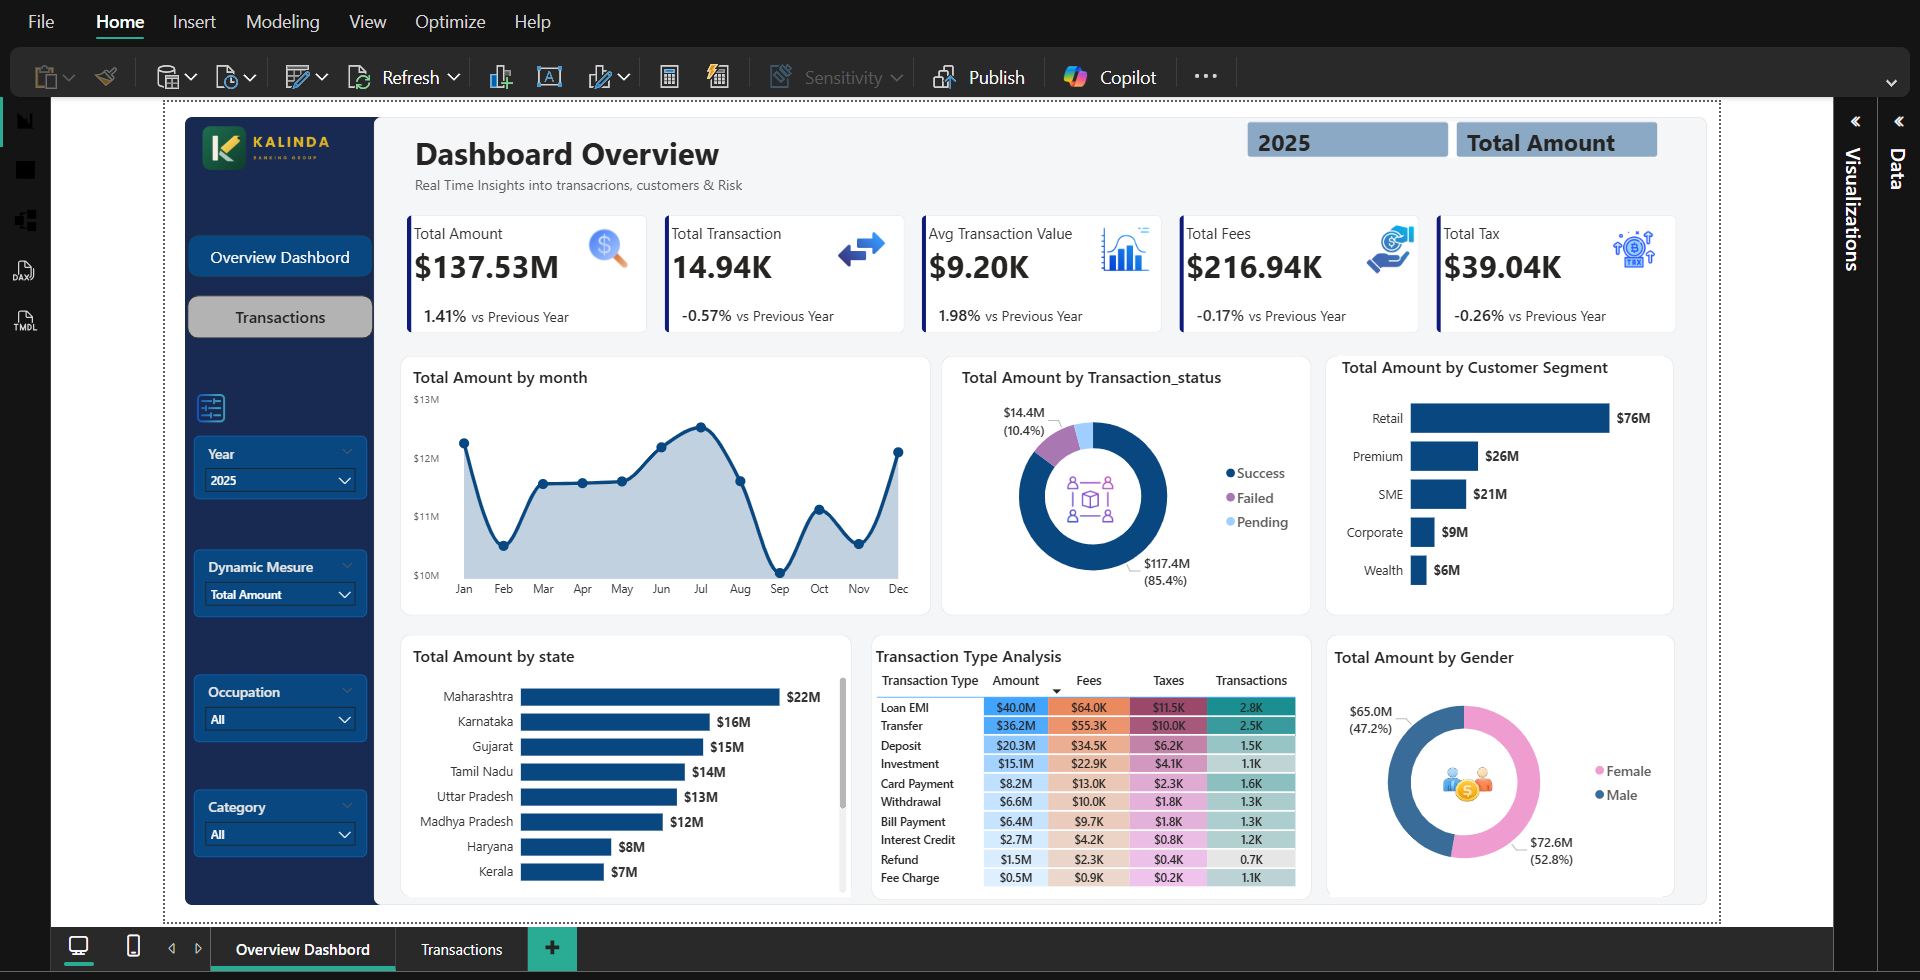

The page's visual inventory and layout, read from the dashboard file:
{"tool":"powerbi","page":{"name":"Overview Dashbord","canvas":[1800,950],"ordinal":0},"visuals":[{"type":"shape","box":[22.9,18,248.5,912.4],"z":0},{"type":"shape","box":[242,18,1543.6,912.4],"z":1000},{"type":"image","box":[22.3,17.5,208.7,71.7],"z":2000},{"type":"cardVisual","fields":{"Data":["finance_transactions.Dashbord Title"]},"box":[272.1,17.4,432.7,105.7],"z":3000},{"type":"cardVisual","fields":{"Data":["finance_transactions.Total Amount","finance_transactions.Total Transaction","finance_transactions.Avg Transaction Value","finance_transactions.Total Fees","finance_transactions.Total Tax"]},"box":[271.4,122.6,1486.4,152.1],"z":4000},{"type":"slicer","fields":{"Values":["calender_table.year"]},"box":[33.5,387.1,200.7,73.3],"z":5000},{"type":"image","box":[773.4,142.3,67,57.2],"z":6000},{"type":"image","box":[1385,142.3,67,57.2],"z":7000},{"type":"image","box":[1077.6,142.3,67,57.2],"z":8000},{"type":"image","box":[1667.9,142.3,67,57.2],"z":9000},{"type":"slicer","fields":{"Values":["Dynamic Mesure.Dynamic Mesure"]},"box":[33.5,517.7,200.7,78.1],"z":10000},{"type":"shape","box":[271.4,294.3,615,300.9],"z":11000},{"type":"areaChart","fields":{"Y":["finance_transactions.Total Amount"],"Category":["calender_table.month"]},"box":[282.9,305.8,590.3,278],"z":12000},{"type":"cardVisual","fields":{"Data":["finance_transactions.Selected Year","finance_transactions.Selected Dynamic Mesure"]},"box":[1247.6,18,487.3,52.3],"z":13000},{"type":"shape","box":[899.3,294.3,428.4,300.9],"z":14000},{"type":"donutChart","fields":{"Y":["finance_transactions.Total Amount"],"Category":["finance_transactions.transaction_status"]},"box":[917.3,305.8,397.3,278],"z":15000},{"type":"shape","box":[1342.5,294.3,403.9,300.9],"z":16000},{"type":"barChart","fields":{"Y":["finance_transactions.Total Amount"],"Category":["customers.customer_segment"]},"box":[1357.2,294.3,377.7,289.4],"z":17000},{"type":"shape","box":[271.4,616.5,523.3,304.1],"z":18000},{"type":"barChart","fields":{"Y":["finance_transactions.Total Amount"],"Category":["customers.state"]},"box":[282.9,627.9,511.8,292.7],"z":19000},{"type":"shape","box":[817.6,616.5,510.2,307.4],"z":20000},{"type":"tableEx","title":"Transaction Type Analysis","fields":{"Values":["finance_transactions.transaction_type","finance_transactions.Total Amount","finance_transactions.Total Fees","finance_transactions.Total Tax","finance_transactions.Total Transaction"]},"box":[817.6,627.9,497.1,292.7],"z":21000},{"type":"shape","box":[1344.1,616.5,403.9,304.1],"z":22000},{"type":"donutChart","fields":{"Y":["finance_transactions.Total Amount"],"Category":["customers.gender"]},"box":[1349,629.5,385.9,291.1],"z":23000},{"type":"image","box":[1038.3,431.7,67,57.2],"z":24000},{"type":"image","box":[1470.5,741,75.3,94.1],"z":25000},{"type":"slicer","fields":{"Values":["customers.occupation"]},"box":[33.5,662.7,200.7,78.1],"z":26000},{"type":"slicer","fields":{"Values":["finance_transactions.merchant_category"]},"box":[33.5,796.5,200.7,78.1],"z":27000},{"type":"pageNavigator","box":[26.1,153.4,215.6,121.6],"z":28000},{"type":"image","box":[489.2,141.8,63.7,56.4],"z":29000},{"type":"image","box":[21.7,335.8,63.7,37.6],"z":30000}]}

Visuals, with their boxes on the page's 1800x950 design canvas (x1, y1, x2, y2). These are canvas units, not pixel positions in the 1920x980 screenshot, which may show the page scaled, cropped or inside an application window:
shape: crop(23, 18, 271, 930)
shape: crop(242, 18, 1786, 930)
image: crop(22, 18, 231, 89)
cardVisual - finance_transactions.Dashbord Title: crop(272, 17, 705, 123)
cardVisual - finance_transactions.Total Amount x finance_transactions.Total Transaction: crop(271, 123, 1758, 275)
slicer - calender_table.year: crop(34, 387, 234, 460)
image: crop(773, 142, 840, 200)
image: crop(1385, 142, 1452, 200)
image: crop(1078, 142, 1145, 200)
image: crop(1668, 142, 1735, 200)
slicer - Dynamic Mesure.Dynamic Mesure: crop(34, 518, 234, 596)
shape: crop(271, 294, 886, 595)
areaChart - finance_transactions.Total Amount x calender_table.month: crop(283, 306, 873, 584)
cardVisual - finance_transactions.Selected Year x finance_transactions.Selected Dynamic Mesure: crop(1248, 18, 1735, 70)
shape: crop(899, 294, 1328, 595)
donutChart - finance_transactions.Total Amount x finance_transactions.transaction_status: crop(917, 306, 1315, 584)
shape: crop(1342, 294, 1746, 595)
barChart - finance_transactions.Total Amount x customers.customer_segment: crop(1357, 294, 1735, 584)
shape: crop(271, 616, 795, 921)
barChart - finance_transactions.Total Amount x customers.state: crop(283, 628, 795, 921)
shape: crop(818, 616, 1328, 924)
"Transaction Type Analysis" tableEx: crop(818, 628, 1315, 921)
shape: crop(1344, 616, 1748, 921)
donutChart - finance_transactions.Total Amount x customers.gender: crop(1349, 630, 1735, 921)
image: crop(1038, 432, 1105, 489)
image: crop(1470, 741, 1546, 835)
slicer - customers.occupation: crop(34, 663, 234, 741)
slicer - finance_transactions.merchant_category: crop(34, 796, 234, 875)
pageNavigator: crop(26, 153, 242, 275)
image: crop(489, 142, 553, 198)
image: crop(22, 336, 85, 373)
